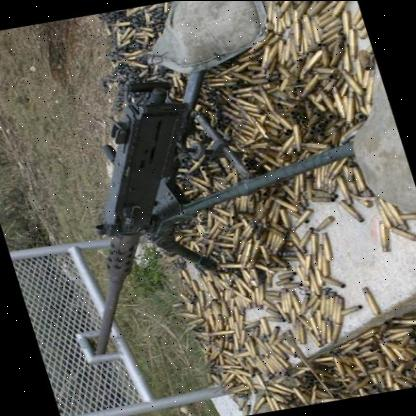rifle: (8, 58, 268, 356)
